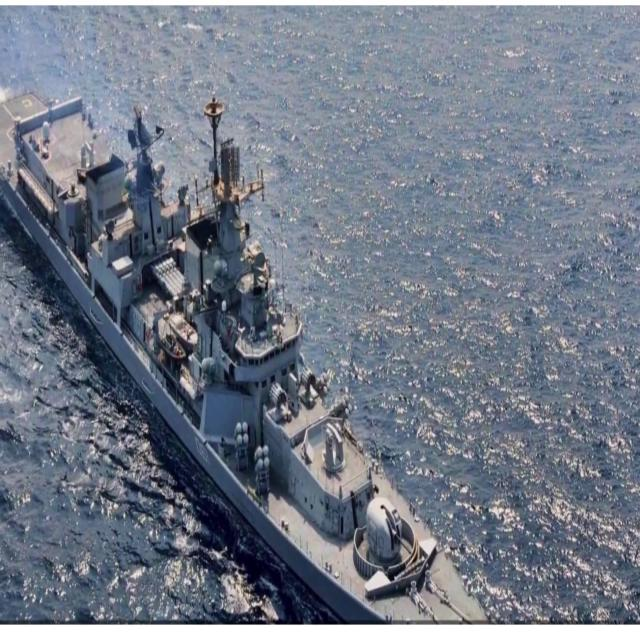OCR: (190, 432, 217, 479)
